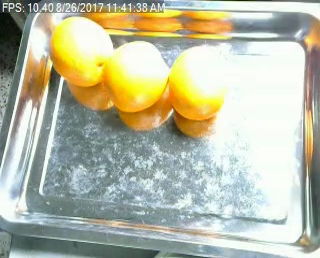Orange: (49, 15, 113, 85)
